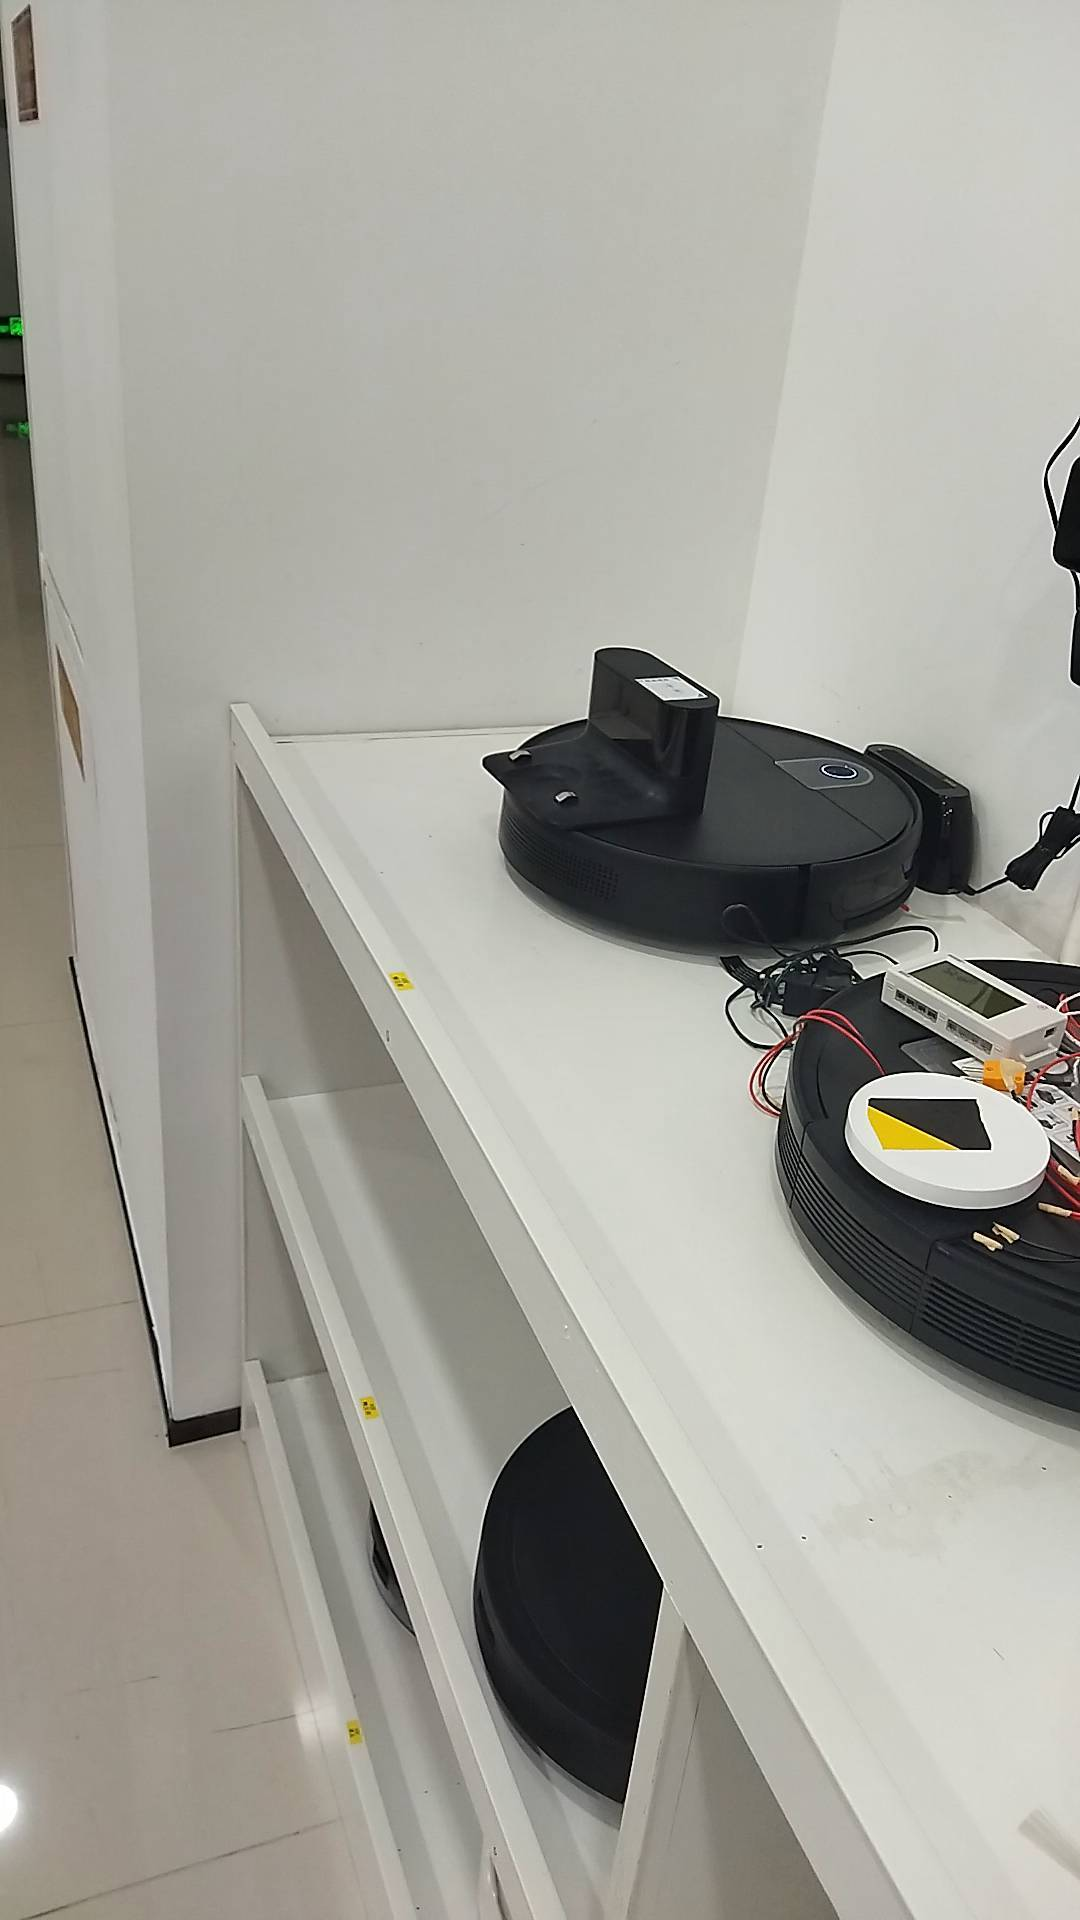recharge seat: (485, 647, 717, 829), (868, 740, 972, 901)
